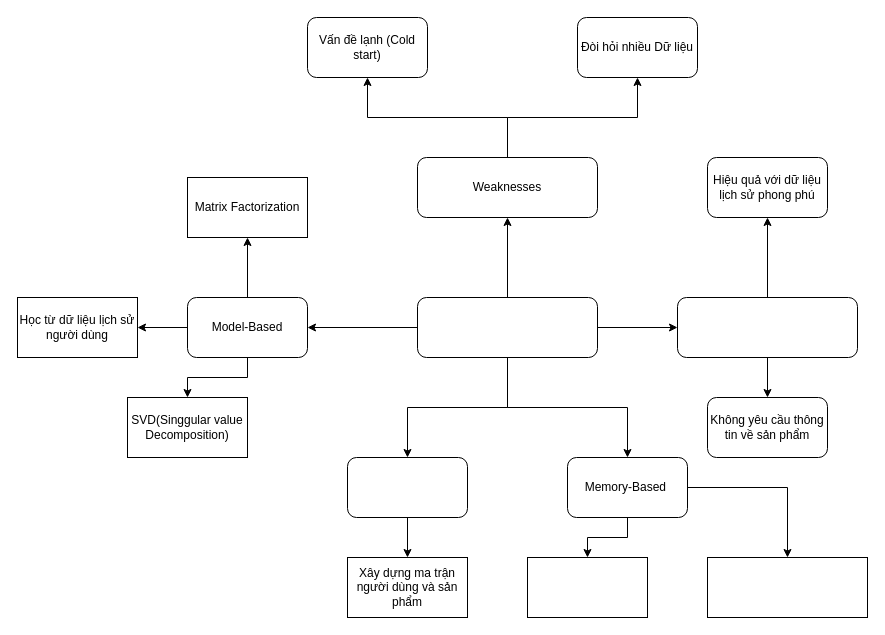
The diagram is 885 pixels wide and 635 high, and some of its shapes have lost their labels. Here are the shapes that lost their labels. From the top down, the centre of each, then its label:
pixel 507 327: Client(Người dùng)
pixel 767 327: Strengths
pixel 407 487: User-Item Matrix
pixel 587 587: KNN(K-Nearest Neighbors)
pixel 787 587: Tính điểm tương đồng giữa người dùng hoặc sản phẩm
